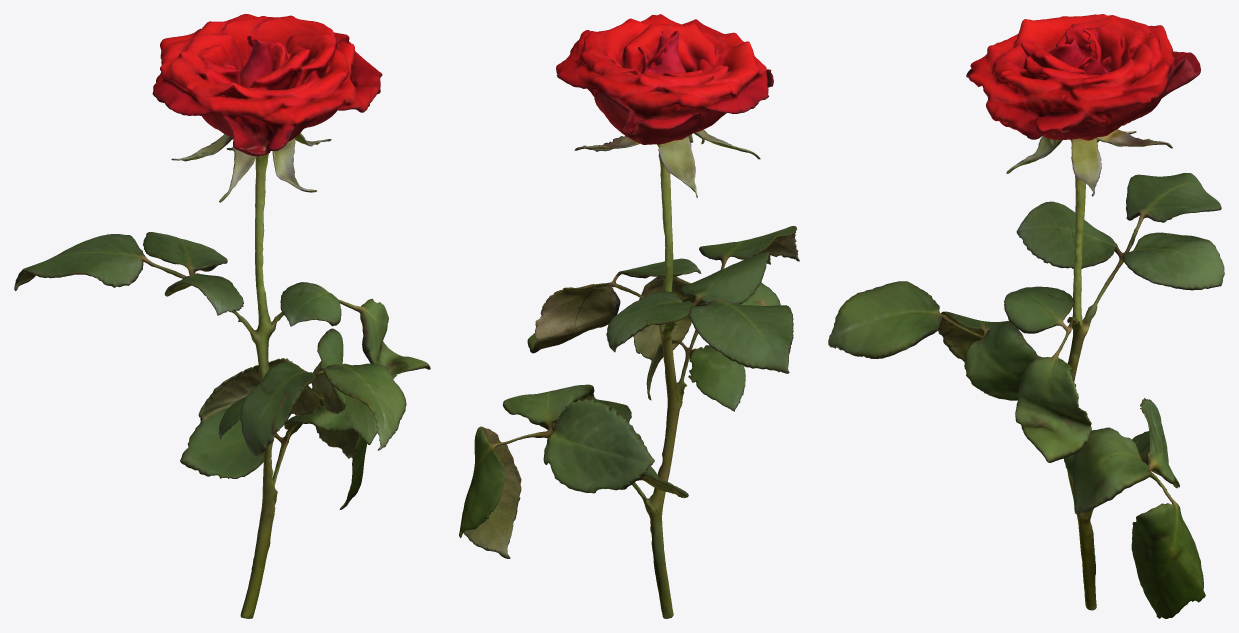
The model's file is gul-3d.glb.
The picture shows the model from 3 angles, left to right: view 1: azimuth 30°, elevation 25°; view 2: azimuth 150°, elevation 25°; view 3: azimuth 270°, elevation 25°; orthographic projection.
Parts seen in each view (by area): view 1: Object_2; view 2: Object_2; view 3: Object_2.
Boxes of the visible parts, <box> form: Object_2: <box>14,14,430,618</box>; Object_2: <box>459,14,799,618</box>; Object_2: <box>828,14,1224,618</box>.
Size of the model in its own units: 1.51 by 2.5 by 1.54.
Materials: 1 (1 with a texture image).
